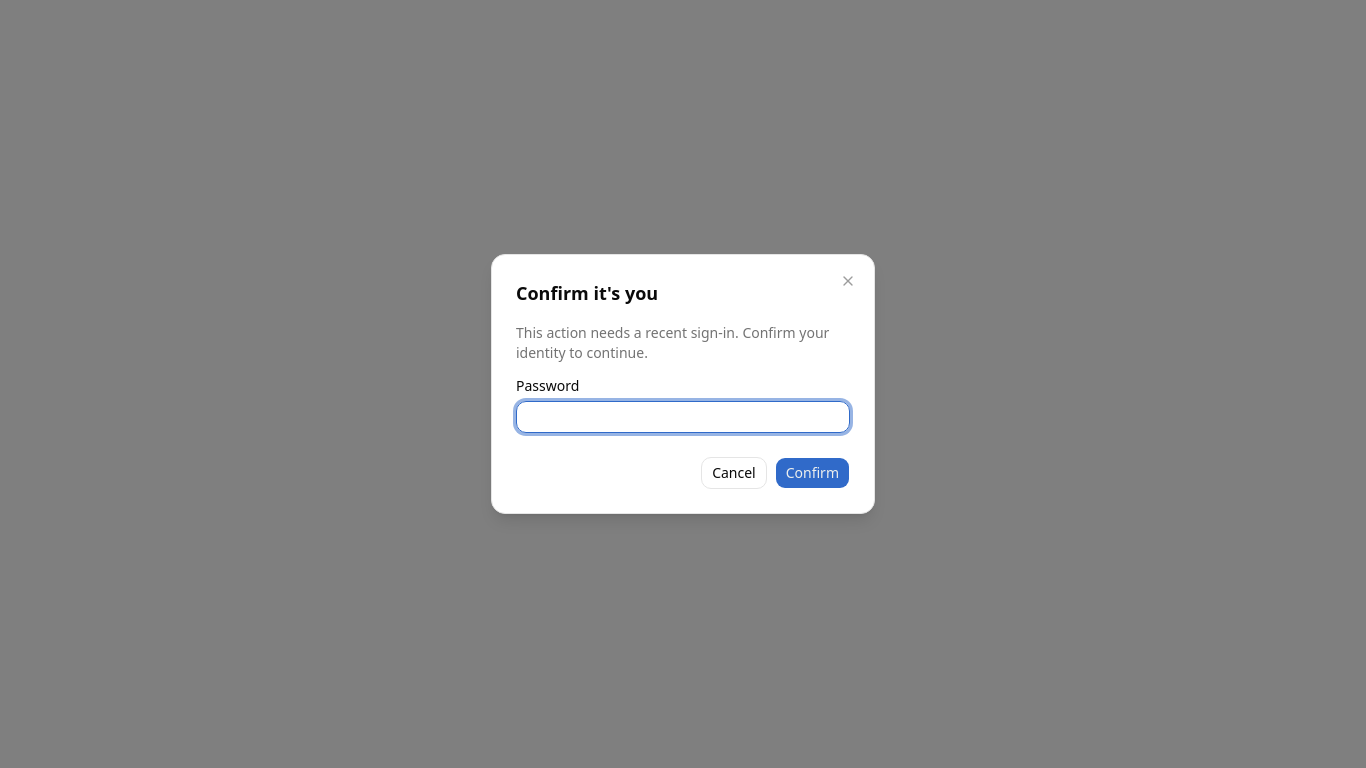
keeps the dialog open on a wrong password
This screenshot has width=1366, height=768.
Type "nope" into the password field labelled "Password". click: (683, 417)
box: x1=516 y1=401 x2=850 y2=433
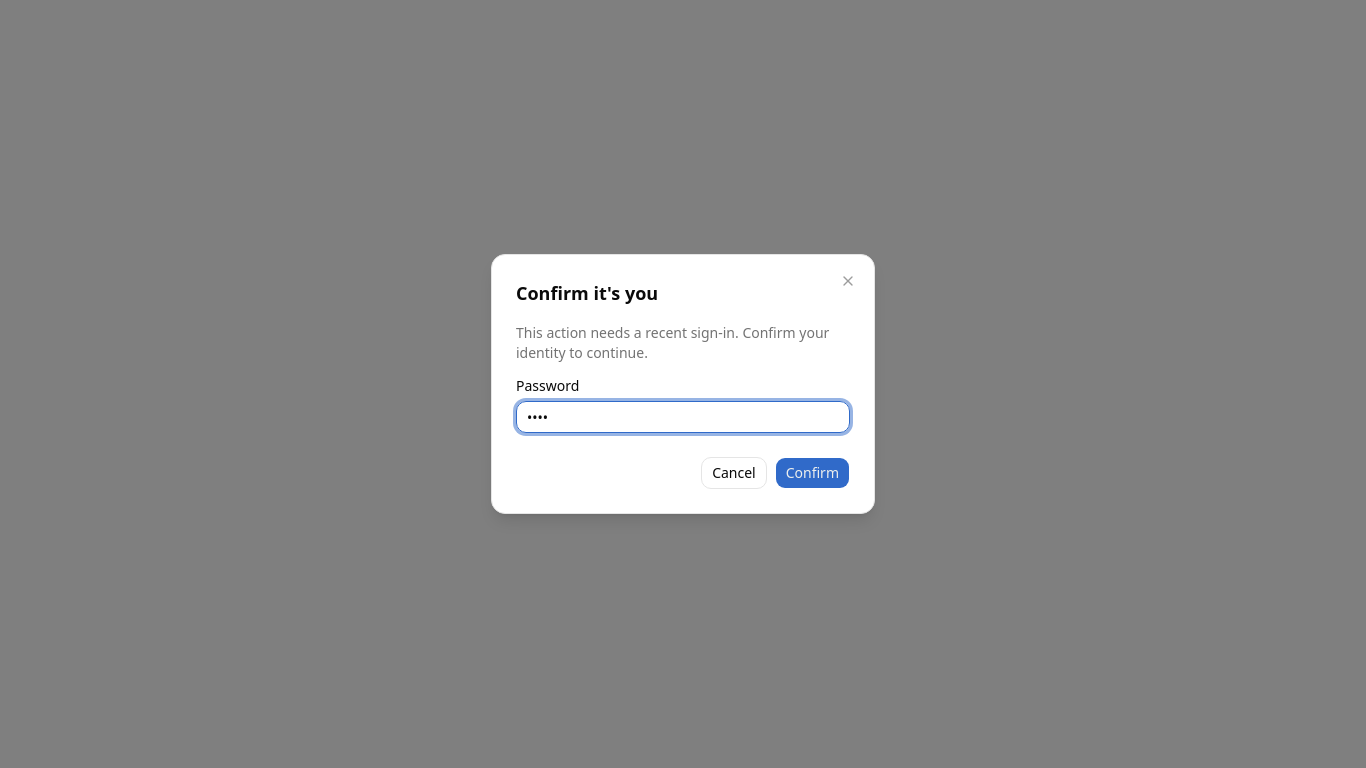
Click the button "Confirm". click: (812, 473)
box: x1=775 y1=457 x2=850 y2=489
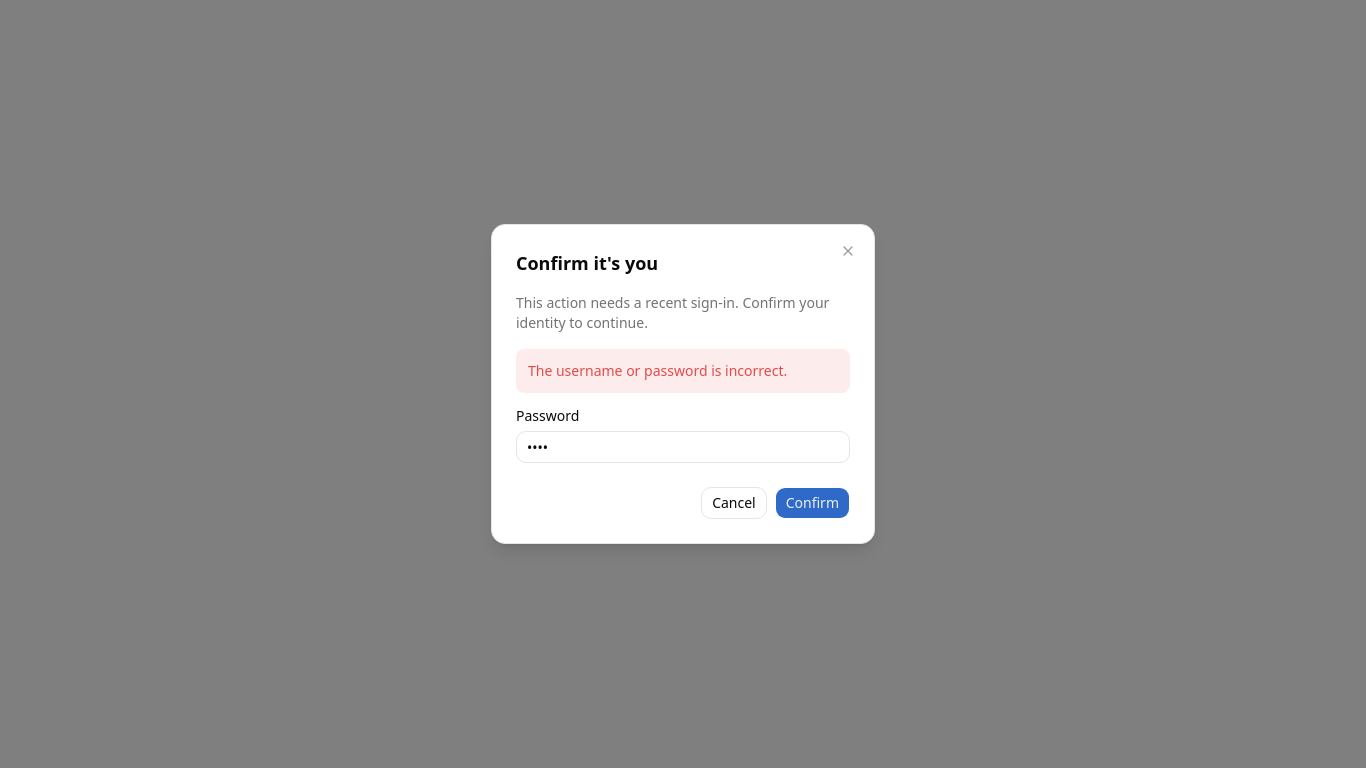
Expected: the dialog is shown, x1=491 y1=224 x2=875 y2=544
Expected: the text "The username or password is incorrect." is shown, x1=516 y1=349 x2=850 y2=393
